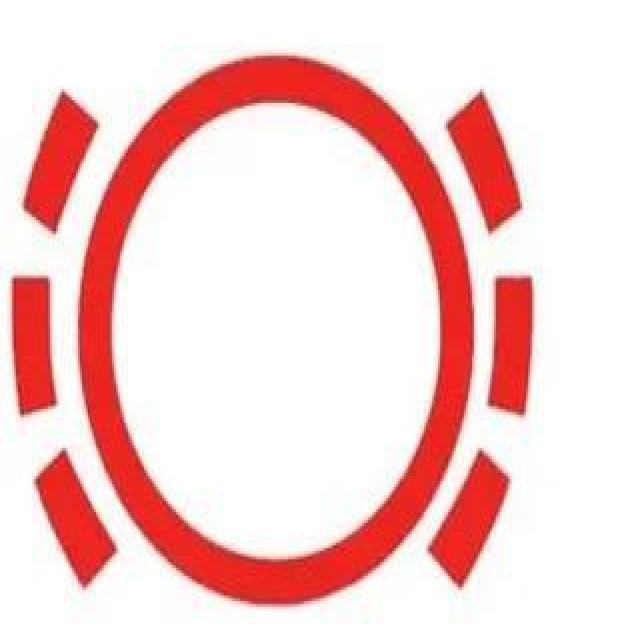kontrolka: (9, 54, 551, 597)
